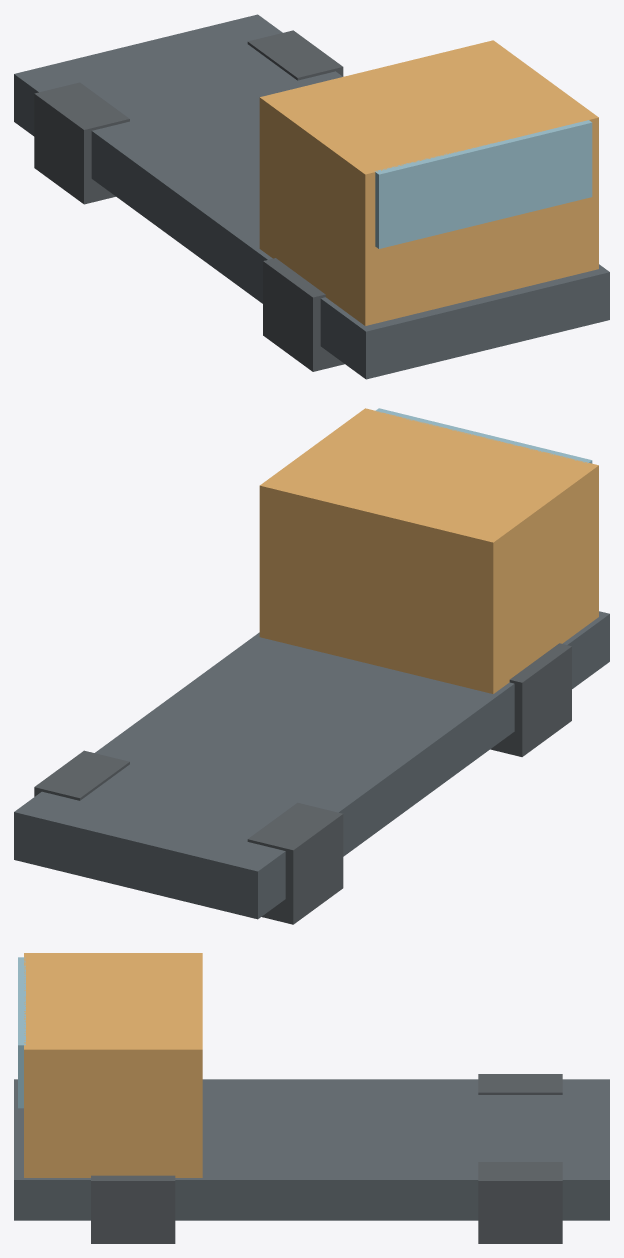
Rendered from truck_lod0.glb.
3 renders of one model, top to bottom at view 1: azimuth 30°, elevation 25°; view 2: azimuth 150°, elevation 25°; view 3: azimuth 270°, elevation 25°, orthographic. The views are drawn at different scales.
Parts seen in each view (by area): view 1: truck-node-1, truck-node-0, truck-node-2, truck-node-3, truck-node-4, truck-node-5; view 2: truck-node-0, truck-node-1, truck-node-3, truck-node-4, truck-node-5, truck-node-2; view 3: truck-node-0, truck-node-1, truck-node-5, truck-node-6, truck-node-3, truck-node-2.
Boxes of the visible parts, box(x1,y1,x2,y2) form: truck-node-1: box(259, 40, 598, 325); truck-node-0: box(14, 14, 609, 379); truck-node-2: box(374, 120, 592, 248); truck-node-3: box(34, 82, 129, 204); truck-node-4: box(263, 258, 344, 371); truck-node-5: box(247, 30, 343, 80); truck-node-0: box(14, 611, 609, 919); truck-node-1: box(259, 408, 598, 693); truck-node-3: box(247, 802, 343, 924); truck-node-4: box(490, 643, 571, 756); truck-node-5: box(34, 750, 129, 800); truck-node-2: box(375, 408, 592, 463); truck-node-0: box(14, 1079, 609, 1220); truck-node-1: box(24, 953, 202, 1177); truck-node-5: box(478, 1162, 562, 1243); truck-node-6: box(91, 1175, 175, 1243); truck-node-3: box(478, 1074, 562, 1094); truck-node-2: box(18, 957, 25, 1108).
Size of the model in its own units: 2.55 by 2.1 by 6.
